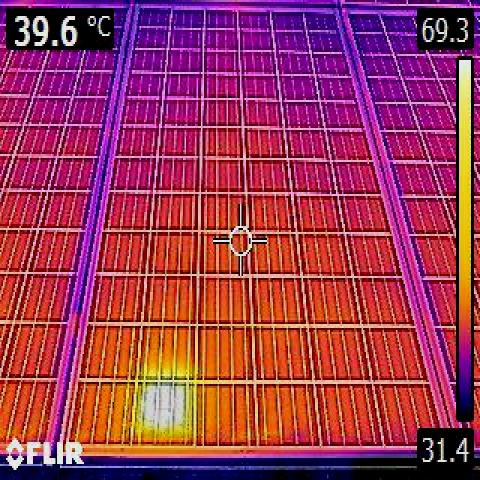fault: (140, 382, 189, 438)
